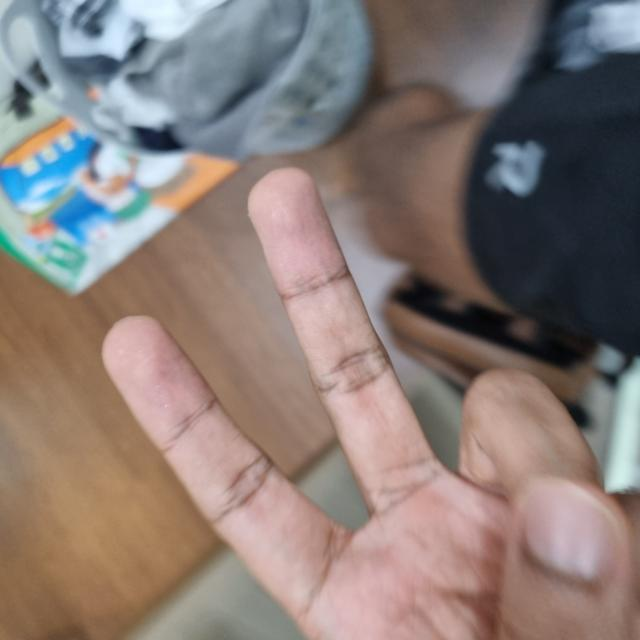Scissors: (0, 101, 471, 639)
